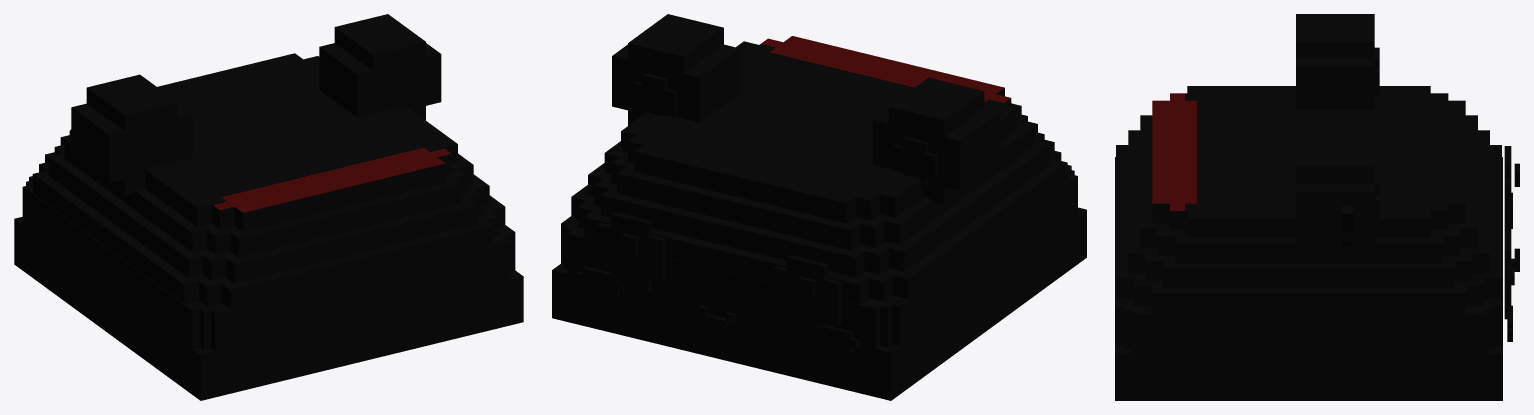
The model's file is hat_panda_cap.obj.
The picture shows the model from 3 angles, left to right: view 1: azimuth 30°, elevation 25°; view 2: azimuth 150°, elevation 25°; view 3: azimuth 270°, elevation 25°; orthographic projection. The views are drawn at different scales.
Bounding box in the file's own units: 0.5832 × 0.3594 × 0.5772.
